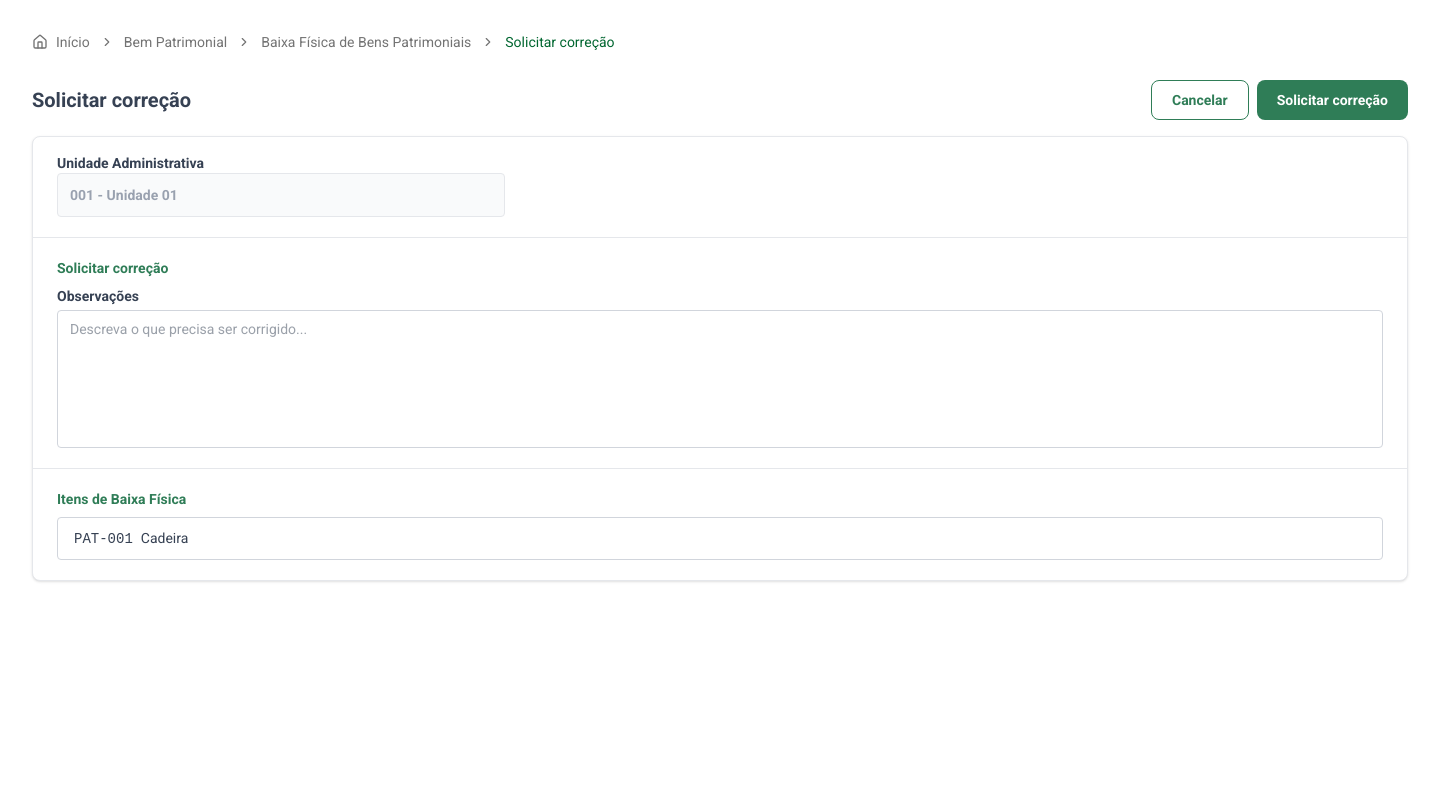
Test: SolicitarCorrecaoPage › exibe o banner consolidado no topo e some ao preencher o motivo
Check: the text box labelled "Observações" is shown, box [57, 310, 1383, 448]
Click the button "Solicitar correção": click(1332, 100) [1257, 80, 1408, 120]
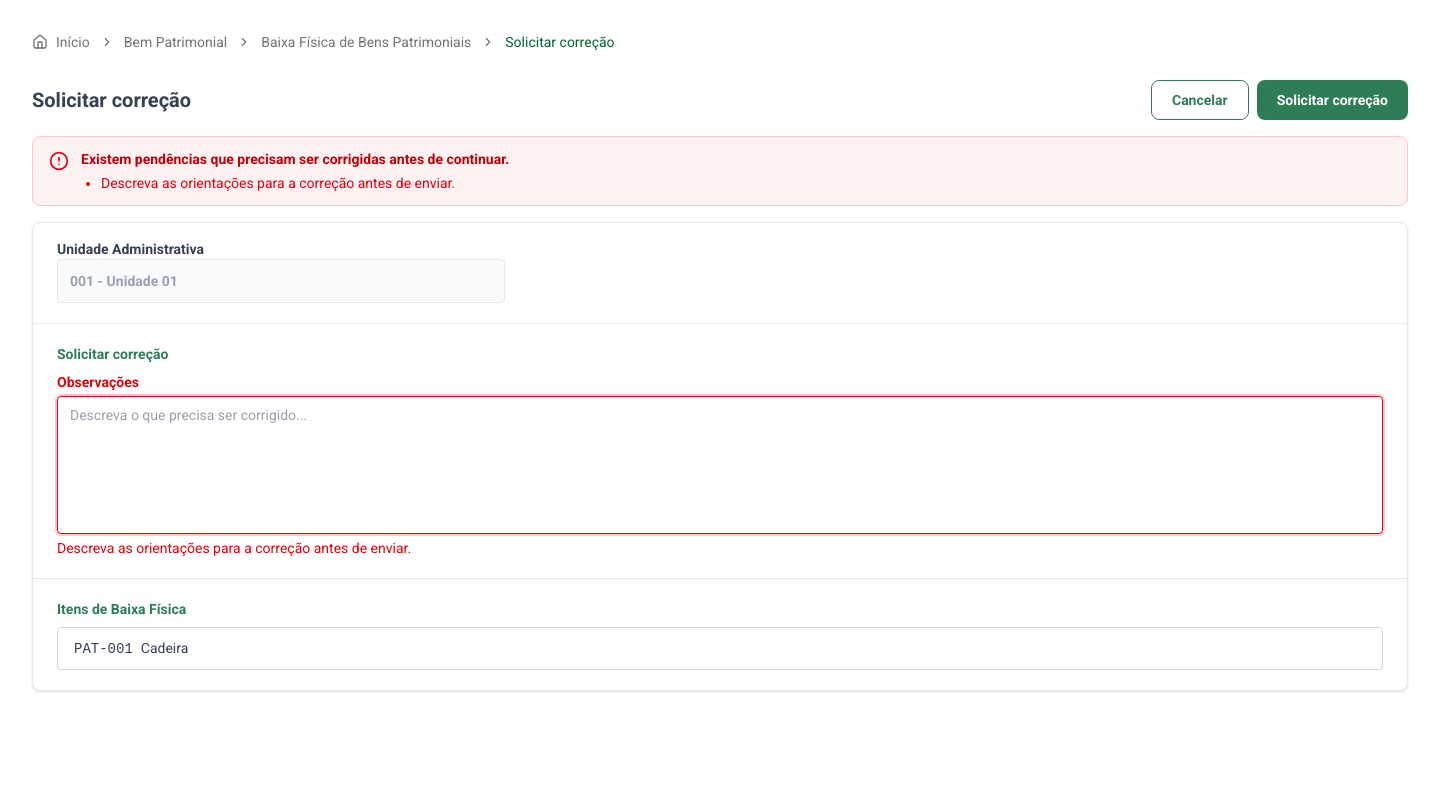
Check: the message with test id "banner-erros-validacao" shows "Descreva as orientações para a correção antes de enviar.", box [101, 175, 455, 191]
In the text box labelled "Observações": (720, 465) [57, 396, 1383, 534], type "Corrigir item"
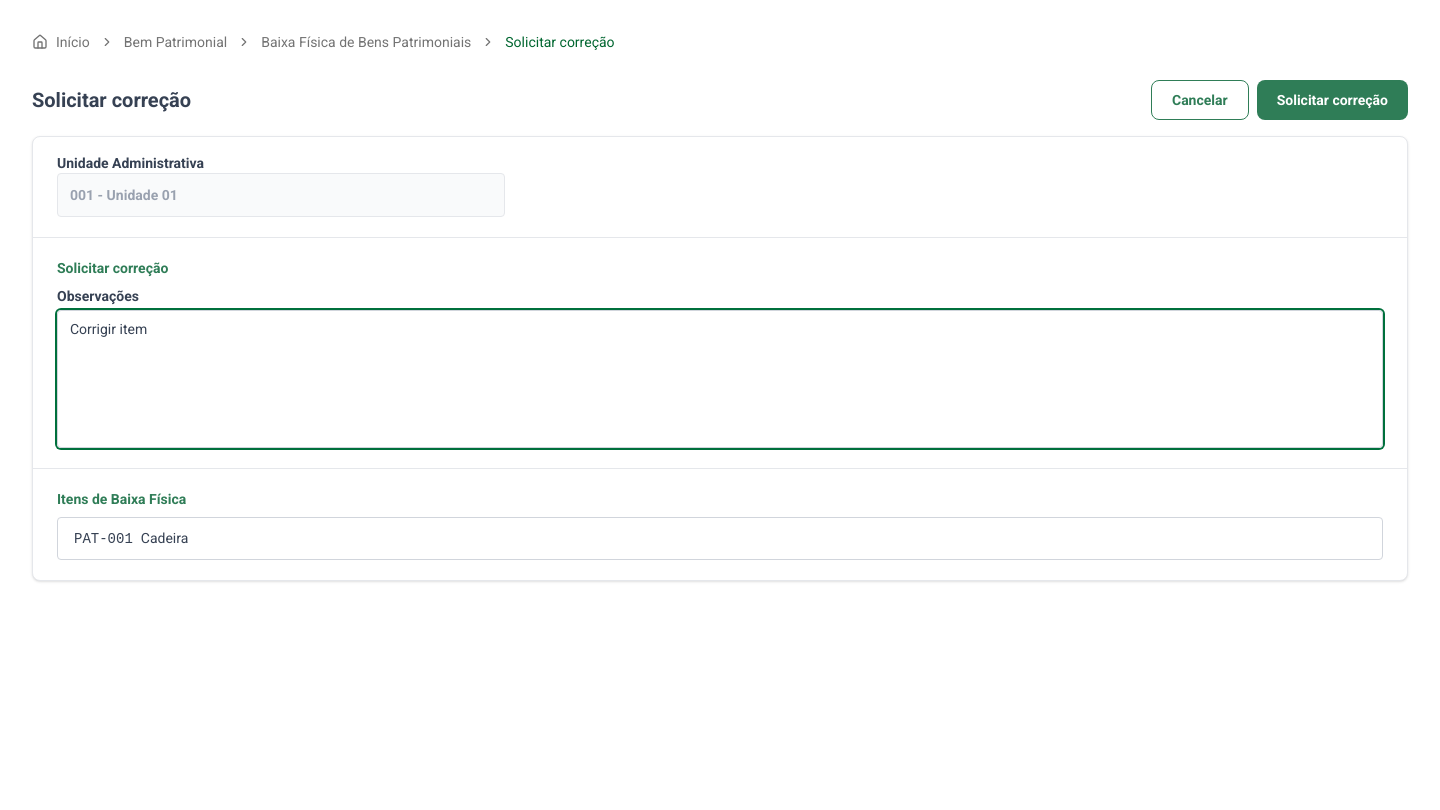
Check: the message with test id "banner-erros-validacao" is gone
